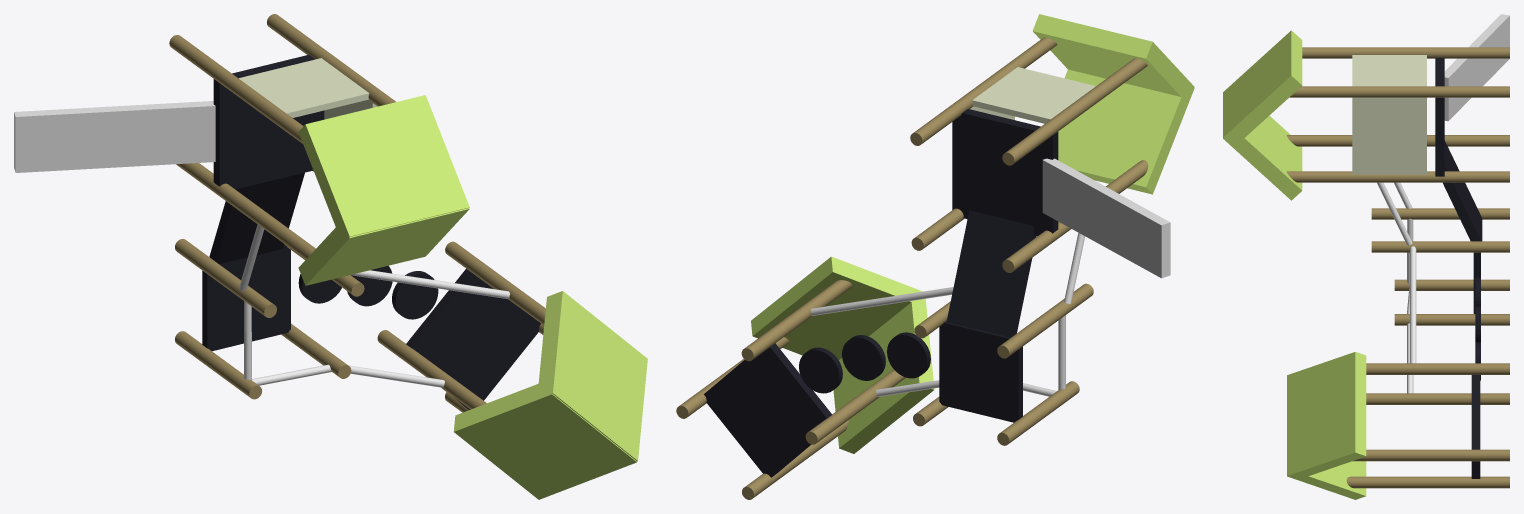
Rendered from leber-lgik-120.glb.
3 renders of one model, left to right at view 1: azimuth 30°, elevation 25°; view 2: azimuth 150°, elevation 25°; view 3: azimuth 270°, elevation 25°, orthographic. The views are drawn at different scales.
Parts seen in each view (by area): view 1: Cube.009, Cube.007, Cube.010, Cube.011, Cube.005, Cube.004, Cube.003, Cube.008, Cube.012, Cube.006, Cylinder.009, Cylinder.007 (+12 smaller); view 2: Cube.008, Cube.005, Cube.004, Cube.007, Cube.006, Cube.011, Cube.003, Cube.009, Cube.010, Cube.012, Cylinder.009, Cylinder.005 (+16 smaller); view 3: Cube.011, Cube.013, Cube.009, Cube.008, Cube.007, Cylinder.005, Cube.012, Cylinder.006, Cylinder.009, Cylinder.013, Cylinder.014, Cylinder.011 (+13 smaller).
Part boxes in pixels (x1,y1,x2,y2): Cube.009: [298, 95, 469, 240]; Cube.007: [14, 101, 215, 172]; Cube.010: [453, 378, 636, 499]; Cube.011: [538, 291, 647, 461]; Cube.005: [406, 268, 540, 409]; Cube.004: [213, 55, 324, 189]; Cube.003: [202, 244, 290, 351]; Cube.008: [298, 208, 469, 285]; Cube.012: [239, 58, 369, 117]; Cube.006: [209, 172, 304, 264]; Cylinder.009: [169, 35, 303, 143]; Cylinder.007: [176, 163, 315, 259]; Cube.008: [1058, 69, 1194, 194]; Cube.005: [704, 343, 832, 477]; Cube.004: [952, 109, 1058, 236]; Cube.007: [1042, 158, 1170, 278]; Cube.006: [946, 210, 1036, 337]; Cube.011: [751, 256, 922, 359]; Cube.003: [939, 321, 1022, 422]; Cube.009: [1032, 14, 1194, 103]; Cube.010: [833, 287, 934, 453]; Cube.012: [972, 67, 1095, 123]; Cylinder.009: [1002, 58, 1147, 165]; Cylinder.005: [910, 37, 1057, 145]; Cube.011: [1287, 352, 1366, 476]; Cube.013: [1352, 97, 1426, 174]; Cube.009: [1223, 30, 1302, 147]; Cube.008: [1223, 115, 1302, 200]; Cube.007: [1444, 14, 1509, 121]; Cylinder.005: [1289, 86, 1509, 97]; Cube.012: [1352, 55, 1426, 86]; Cylinder.006: [1286, 171, 1509, 182]; Cylinder.009: [1302, 47, 1509, 58]; Cylinder.013: [1346, 476, 1509, 488]; Cylinder.014: [1352, 449, 1509, 461]; Cylinder.011: [1366, 363, 1509, 374].
Bounding box in the file's own units: 4.17 × 3.51 × 2.49.
